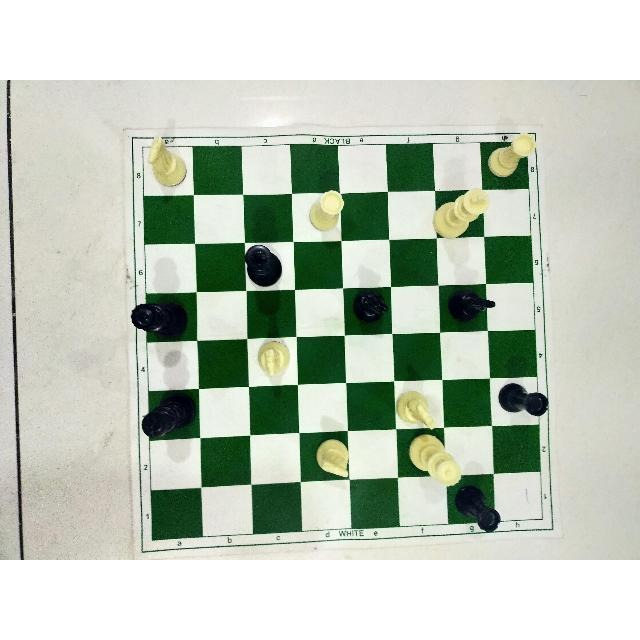black-king: (138, 392, 204, 440), (243, 241, 285, 288)
black-knight: (447, 283, 496, 325), (351, 282, 390, 331)
black-queen: (130, 294, 190, 343)
black-rook: (454, 484, 502, 536), (498, 375, 550, 421)
white-king: (432, 187, 490, 241)
white-knight: (145, 133, 187, 187), (396, 389, 440, 433), (314, 434, 355, 480), (257, 337, 293, 382)
white-queen: (408, 430, 462, 484)
white-rook: (487, 132, 537, 181), (307, 189, 348, 231)
